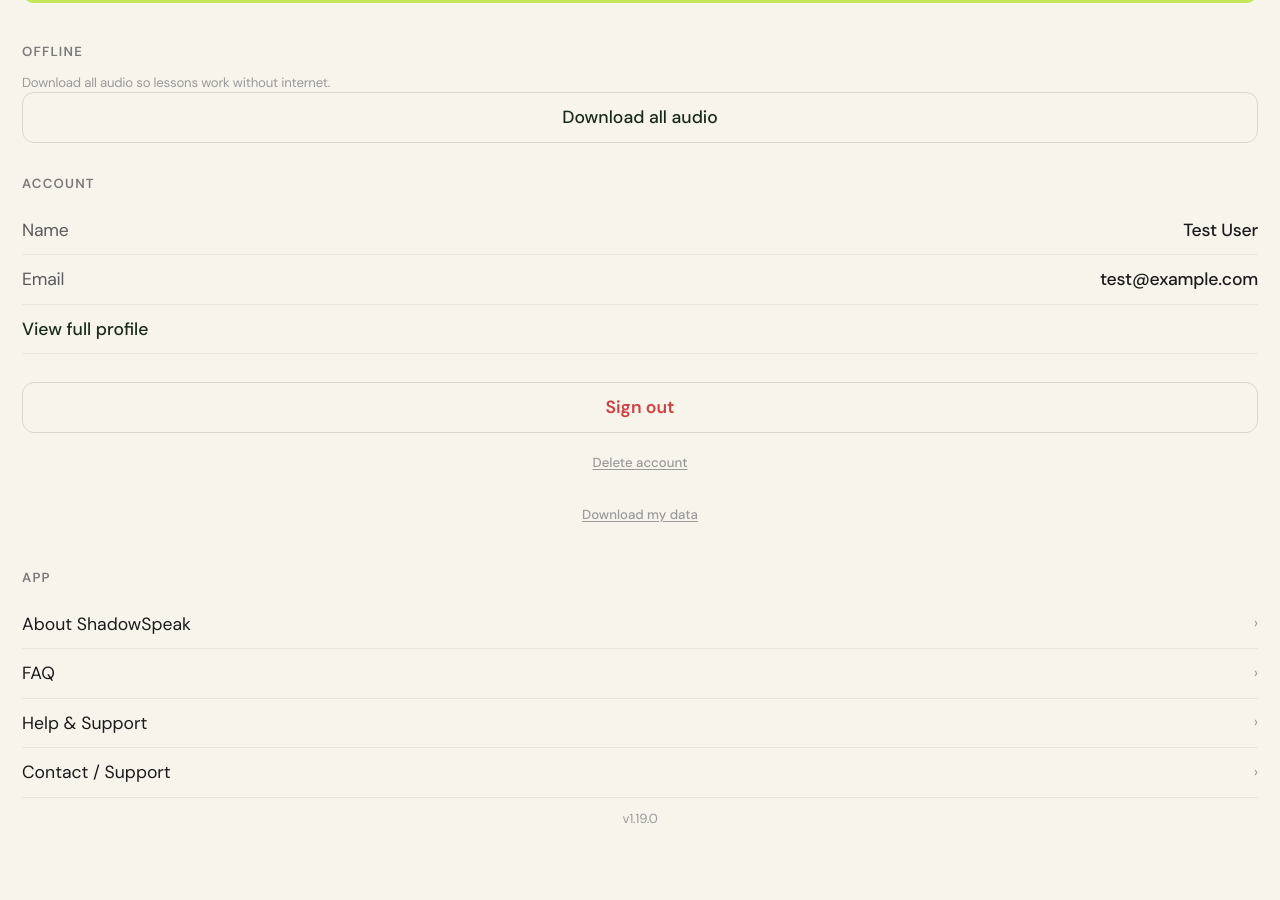
SettingsScreen — Delete Account flow › dismisses the warning modal on Cancel
(page scrolled)
Click the button "Delete account".
click(640, 463)  # box [22,441,1258,485]
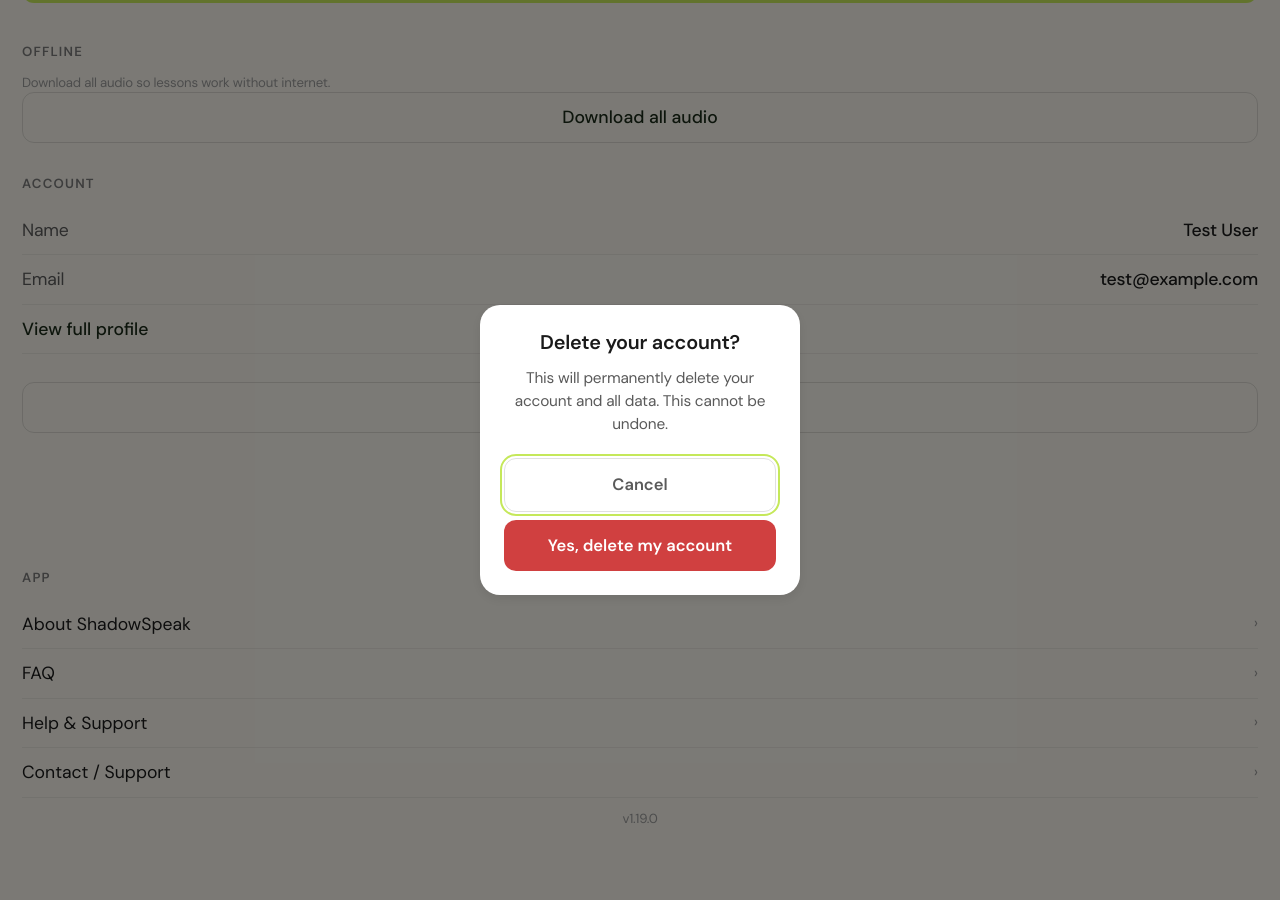
Click the button "Cancel".
click(640, 485)  # box [504,458,776,512]
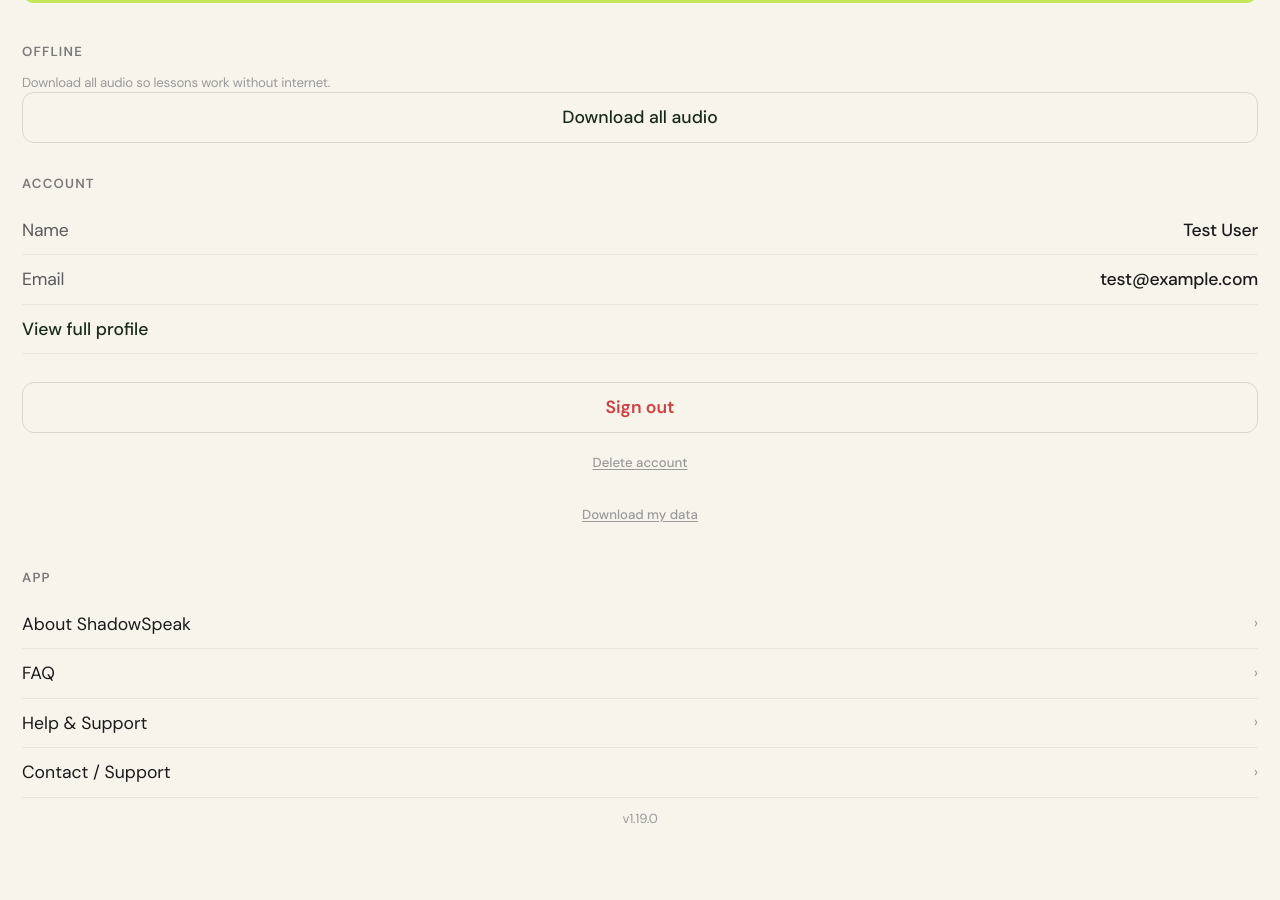
Check: the text "permanently delete your account and all data" is gone
